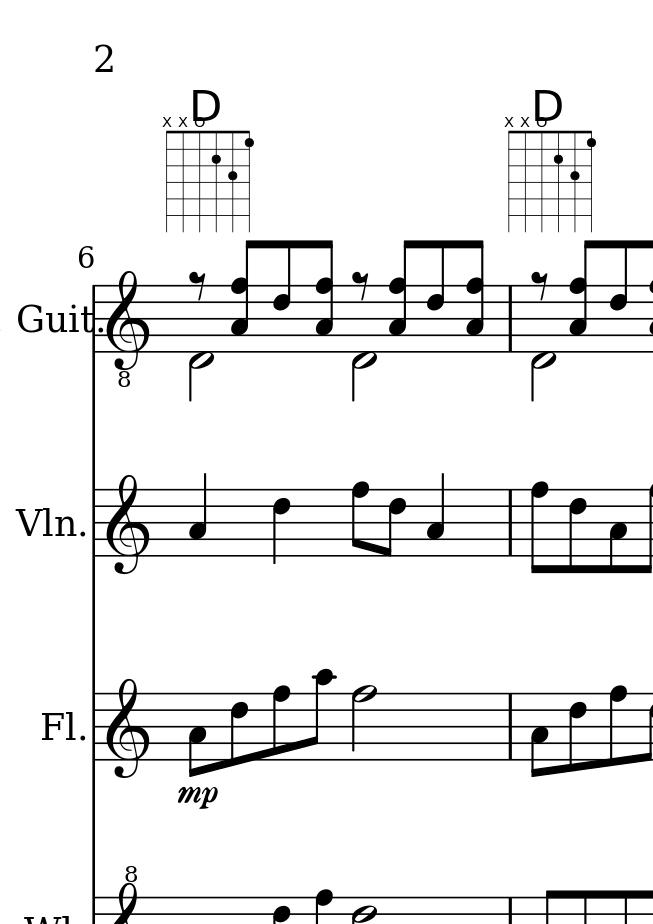2: (92, 42, 115, 73)
2_-1: (349, 282, 377, 403), (528, 283, 556, 400), (188, 284, 215, 404)
2_8: (350, 683, 379, 762)
4_3: (422, 469, 447, 566), (188, 471, 209, 560)
4_6: (269, 487, 292, 566)
6: (77, 244, 96, 270)
8_10: (303, 664, 338, 762)
8_3: (606, 481, 632, 573), (186, 689, 206, 777)
8_3_8: (231, 239, 259, 354), (387, 239, 415, 354), (569, 238, 597, 353), (314, 238, 335, 352), (464, 239, 485, 353)
8_6: (423, 240, 453, 357), (605, 238, 632, 356), (270, 238, 295, 356), (564, 481, 590, 575), (226, 692, 249, 767), (383, 486, 404, 559)
8_8: (528, 480, 552, 573), (349, 478, 371, 560), (271, 682, 290, 763)
Fl: (38, 707, 77, 742)
Fretboard: (502, 114, 599, 236), (160, 115, 257, 236)
Gclef: (107, 474, 150, 577), (106, 671, 147, 777), (605, 680, 630, 769), (561, 690, 587, 774), (526, 688, 548, 784)
Guit: (10, 300, 94, 340)
Lower_Gclef: (107, 269, 152, 388)
Rests8: (344, 262, 376, 303), (527, 261, 552, 301), (186, 265, 211, 301)
Single_barline: (499, 692, 519, 761), (501, 284, 521, 352), (502, 489, 521, 556), (85, 692, 103, 761), (89, 284, 107, 352), (86, 489, 103, 558)
Vln: (16, 503, 77, 543)
mp: (173, 784, 224, 815)
